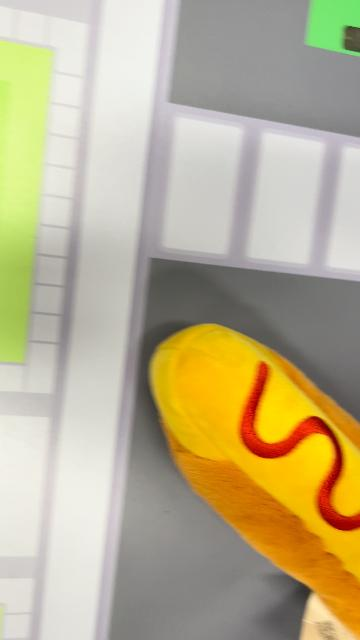hotdog: (147, 320, 358, 638)
